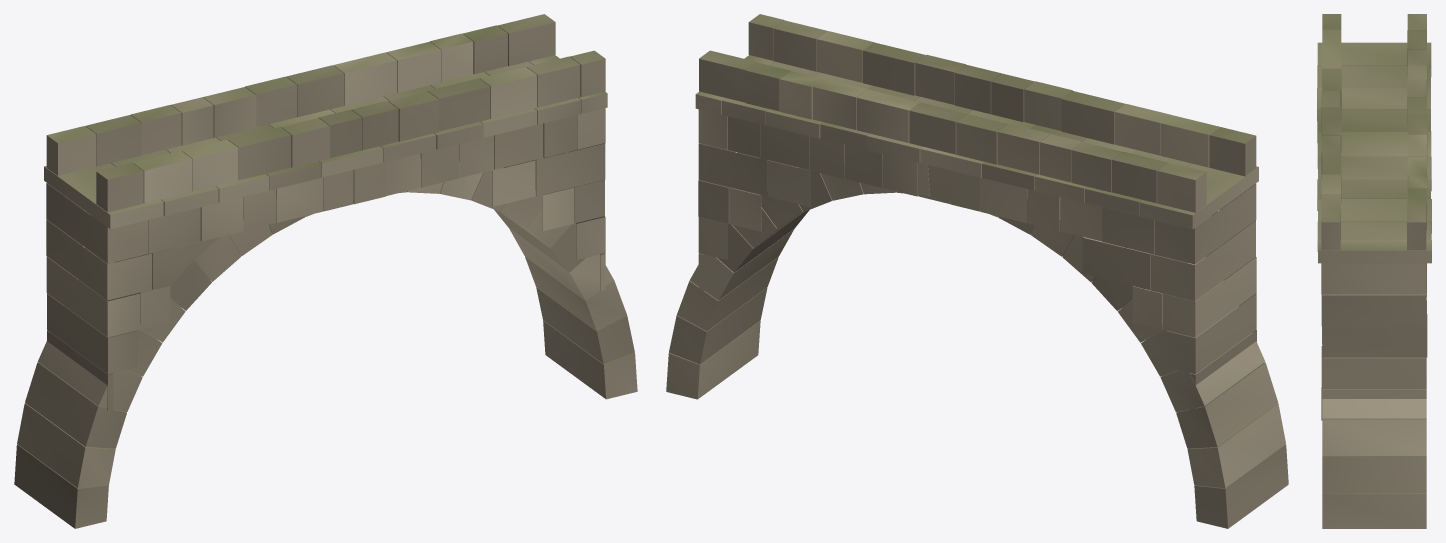
Rendered from viaduct_top_arch_b_mid.glb.
3 views of the same model, side by side, from view 1: azimuth 30°, elevation 25°; view 2: azimuth 150°, elevation 25°; view 3: azimuth 270°, elevation 25° (orthographic). The views are drawn at different scales.
Visible parts, largest first — view 1: viaduct_top_arch_b_mid; view 2: viaduct_top_arch_b_mid; view 3: viaduct_top_arch_b_mid.
Boxes of the visible parts, bbox=[...] form: viaduct_top_arch_b_mid: bbox=[14, 14, 637, 528]; viaduct_top_arch_b_mid: bbox=[666, 14, 1288, 528]; viaduct_top_arch_b_mid: bbox=[1317, 14, 1431, 528].
Size of the model in its own units: 31.85 by 18.47 by 6.56.
